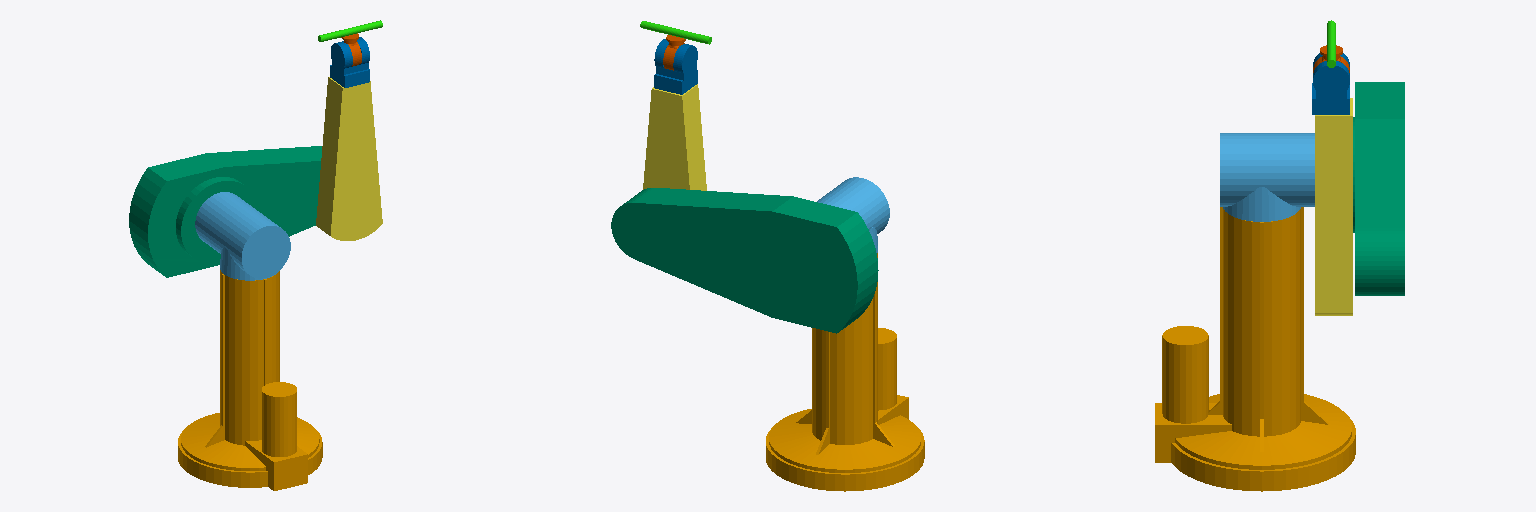
robot.urdf — Puma:
<?xml version="1.0" ?>

<robot name="Puma">

	<link name="ground">
		<inertial>
			<origin xyz="0.0 0.0 0.0" rpy="0 0 0" />
			<mass value="0.001" />
			<inertia ixx="0.01" iyy="0.01" izz="0.01" ixy="0" ixz="0" iyz="0" />
		</inertial>
		<visual>
			<origin xyz="0.0 0.0 0.0" rpy="0 0 0" />
			<geometry>
				<mesh filename="meshes/base_bl.obj" scale="1 1 1" />
			</geometry>
		</visual>
	</link>

	<link name="base">
		<inertial>
			<origin xyz="0.0 0.0 0.0" rpy="0 0 0" />
			<mass value="34.4" />
			<inertia ixx="0.18" iyy="0.18" izz="0.35" ixy="0" ixz="0" iyz="0" />
		</inertial>
		<visual>
			<origin xyz="0.0 0.0 0.0" rpy="0 0 0" />
			<geometry>
				<mesh filename="meshes/shoulder_bl.obj" scale="1 1 1" />
			</geometry>
		</visual>
	</link>

	<link name="upper_arm">
		<inertial>
			<origin xyz="0.068 0.006 -0.016" rpy="0 0 0" />
			<mass value="17.4" />
			<inertia ixx="0.130" iyy="0.524" izz="0.539" ixy="0" ixz="0" iyz="0" />
		</inertial>
		<visual>
			<origin xyz="0.0 0.0 0.0" rpy="0 0 0" />
			<geometry>
				<mesh filename="meshes/upper_arm_bl.obj" scale="1 1 1" />
			</geometry>
		</visual>
	</link>

	<link name="lower_arm">
		<inertial>
			<origin xyz="0.0 -0.143 0.014" rpy="0 0 0" />
			<mass value="6.04" />
			<inertia ixx="0.066" iyy="0.0125" izz="0.086" ixy="0" ixz="0" iyz="0" />
		</inertial>
		<visual>
			<origin xyz="-0.02 0.0 -0.005" rpy="0 0 0" />
			<geometry>
				<mesh filename="meshes/lower_arm_bl.obj" scale="1 1 1" />
			</geometry>
		</visual>
	</link>

	<link name="wrist-hand">
		<inertial>
			<origin xyz="0.0 0.0 -0.019" rpy="0 0 0" />
			<mass value="0.82" />
			<inertia ixx="0.0018" iyy="0.0018" izz="0.0013" ixy="0" ixz="0" iyz="0" />
		</inertial>
		<visual>
			<origin xyz="0.0 0.0 0.0" rpy="0 0 0" />
			<geometry>
				<mesh filename="meshes/hand_bl.obj" scale="1 1 1" />
			</geometry>
		</visual>
	</link>

	<link name="wrist-finger">
		<inertial>
			<origin xyz="0.0 0.0 0.0" rpy="0 0 0" />
			<mass value="0.34" />
			<inertia ixx="0.0003" iyy="0.0003" izz="0.0004" ixy="0" ixz="0" iyz="0" />
		</inertial>
		<visual>
			<origin xyz="0.0 0.0 0.0" rpy="0 0 0" />
			<geometry>
				<mesh filename="meshes/finger_bl.obj" scale="1 1 1" />
			</geometry>
		</visual>
	</link>

	<link name="end-effector">
		<inertial>
			<origin xyz="0.0 0.0 0.032" rpy="0 0 0" />
			<mass value="0.39" />
			<inertia ixx="0.005" iyy="0.001" izz="0.005" ixy="0" ixz="0" iyz="0" />
		</inertial>
		<visual>
			<origin xyz="0.0 0.0 0.0" rpy="1.5707 0 0" />
			<geometry>
                <cylinder radius="0.01" length="0.2" />
            </geometry>
            <material name="link5-1">
                <color rgba="0.2 0.9 0.1 1.0" />
            </material>
		</visual>
	</link>

	<joint name="shoulder-yaw" type="revolute">
		<parent link="ground" />
		<child link="base" />
		<origin xyz="0.0 0.0 0.66" rpy="0.0 0.0 0.0" />
		<axis xyz="0 0 1" />
		<calibration falling="90.0" />
		<limit lower="-3.14159" upper="3.14159" effort="97.6" velocity="1.0" />
	</joint>

	<joint name="shoulder-pitch" type="revolute">
		<parent link="base" />
		<child link="upper_arm" />
		<origin xyz="0.0 0.2435 0.0" rpy="-1.5707963268 0.0 0.0" />
		<axis xyz="0 0 1" />
		<calibration falling="30.0" />
		<limit lower="-3.14159" upper="3.14159" effort="186.4" velocity="1.0" />
	</joint>

	<joint name="elbow" type="revolute">
		<parent link="upper_arm" />
		<child link="lower_arm" />
		<origin xyz="0.4318 0.0 -0.0934" rpy="0.0 0.0 0.0" />
		<axis xyz="0 0 1" />
		<limit lower="-3.14159" upper="3.14159" effort="89.4" velocity="1.0" />
	</joint>

	<joint name="wrist-roll1" type="revolute">
		<parent link="lower_arm" />
		<child link="wrist-hand" />
		<origin xyz="-0.0203 -0.4331 0.0" rpy="1.5707963268 0.0 0.0" />
		<axis xyz="0 0 1" />
		<calibration falling="-90.0" />
		<limit lower="-3.14159" upper="3.14159" effort="24.2" velocity="1.0" />
	</joint>

	<joint name="wrist-pitch" type="revolute">
		<parent link="wrist-hand" />
		<child link="wrist-finger" />
		<origin xyz="0.0 0.0 0.0" rpy="0 1.5707963268 -3.1415926536" />
		<axis xyz="0 0 1" />
		<calibration falling="-30.0" />
		<limit lower="-3.14159" upper="3.14159" effort="20.1" velocity="1.0" />
	</joint>

	<joint name="wrist-roll2" type="revolute">
		<parent link="wrist-finger" />
		<child link="end-effector" />
		<origin xyz="-0.07 0.0 0.0" rpy="1.5707 0.0 0.0" />
		<axis xyz="1 0 0" />
		<limit lower="-3.14159" upper="3.14159" effort="21.3" velocity="1.0" />
	</joint>

</robot>

--- Render facts (derived) ---
3 views of the same robot in one strip: view 1: azimuth 30°, elevation 25°; view 2: azimuth 150°, elevation 25°; view 3: azimuth 270°, elevation 25° (orthographic).
Robot: Puma — 7 links, 6 joints (6 revolute); root link ground; default pose: all joints at 0.
Visible links, largest first — view 1: ground, upper_arm, lower_arm, base, wrist-hand; view 2: upper_arm, ground, lower_arm, base, wrist-hand, end-effector; view 3: ground, upper_arm, base, lower_arm, wrist-hand.
Link boxes in pixels (left/top/right/bottom): ground: left=178, top=270, right=322, bottom=490; upper_arm: left=129, top=146, right=321, bottom=277; lower_arm: left=316, top=77, right=382, bottom=240; base: left=195, top=192, right=290, bottom=280; wrist-hand: left=330, top=37, right=369, bottom=87; upper_arm: left=611, top=188, right=878, bottom=333; ground: left=766, top=253, right=924, bottom=491; lower_arm: left=643, top=84, right=706, bottom=190; base: left=817, top=177, right=889, bottom=252; wrist-hand: left=654, top=39, right=697, bottom=94; end-effector: left=640, top=21, right=711, bottom=44; ground: left=1155, top=207, right=1355, bottom=491; upper_arm: left=1353, top=82, right=1404, bottom=295; base: left=1220, top=133, right=1314, bottom=221; lower_arm: left=1315, top=98, right=1352, bottom=315; wrist-hand: left=1312, top=53, right=1349, bottom=114.
Bounding box of the posed robot: 0.7268 × 0.5379 × 1.17 m (x, y, z).
Meshes: 6 distinct files referenced, 6 mesh visuals loaded (6 OBJ).